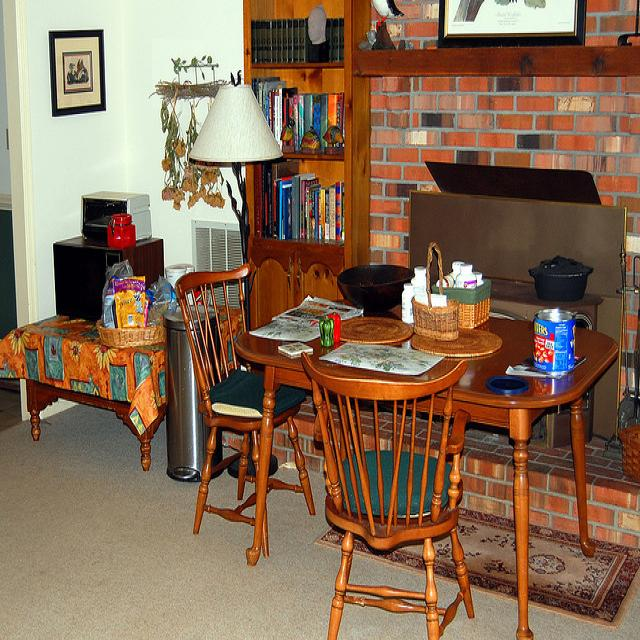chair: (300, 351, 475, 640), (175, 264, 317, 559)
dining table: (233, 268, 620, 633)
